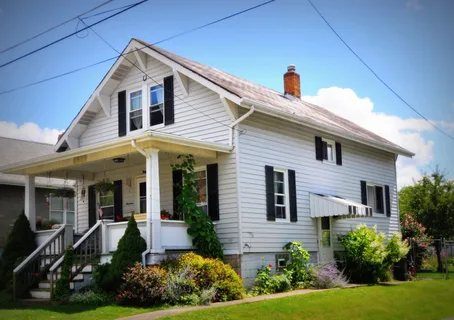private_hause: (64, 63, 410, 270)
